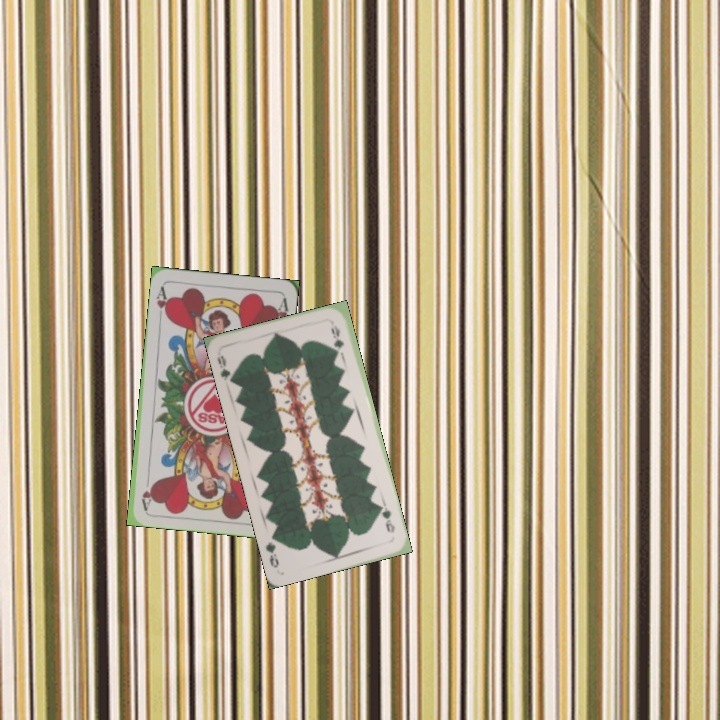G9: (213, 351, 239, 387), (375, 500, 398, 535)
HA: (152, 282, 171, 323)
